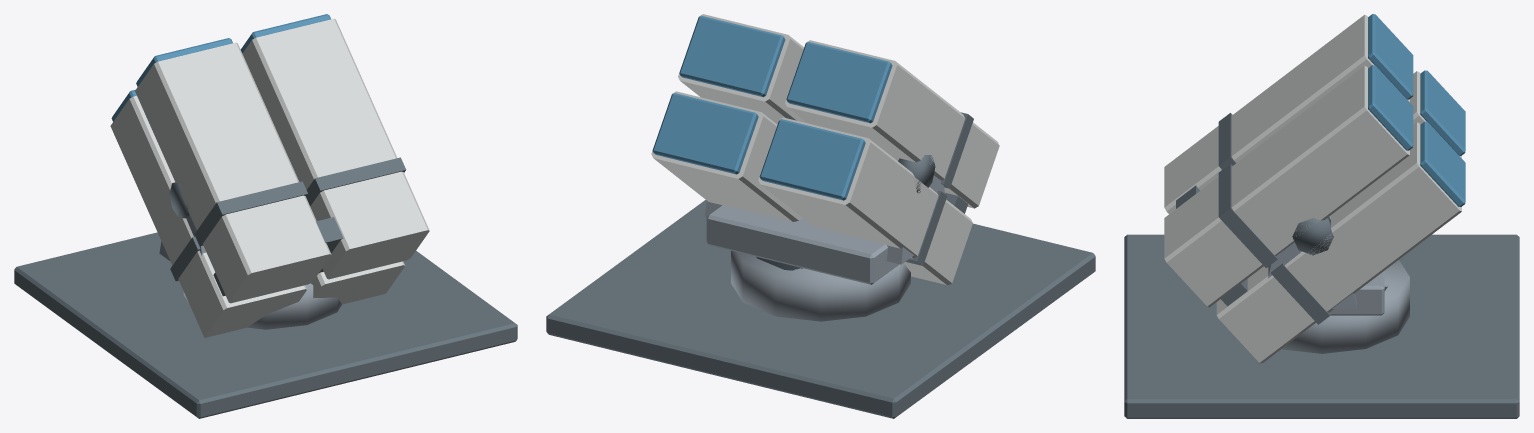
The model's file is MOD_SamLauncher.fbx.
The picture shows the model from 3 angles, left to right: view 1: azimuth 30°, elevation 25°; view 2: azimuth 150°, elevation 25°; view 3: azimuth 270°, elevation 25°; orthographic projection. The views are drawn at different scales.
Visible parts, largest first — view 1: TrainPivot_Visual, MOD_SamLauncher_Root_Visual; view 2: TrainPivot_Visual, MOD_SamLauncher_Root_Visual; view 3: TrainPivot_Visual, MOD_SamLauncher_Root_Visual.
Part boxes in pixels (bbox=[...]): TrainPivot_Visual: bbox=[110, 14, 429, 337]; MOD_SamLauncher_Root_Visual: bbox=[14, 232, 517, 418]; TrainPivot_Visual: bbox=[651, 14, 999, 284]; MOD_SamLauncher_Root_Visual: bbox=[546, 200, 1095, 418]; TrainPivot_Visual: bbox=[1164, 14, 1465, 363]; MOD_SamLauncher_Root_Visual: bbox=[1124, 234, 1519, 418].
Size of the model in its own units: 180 by 140 by 180.
